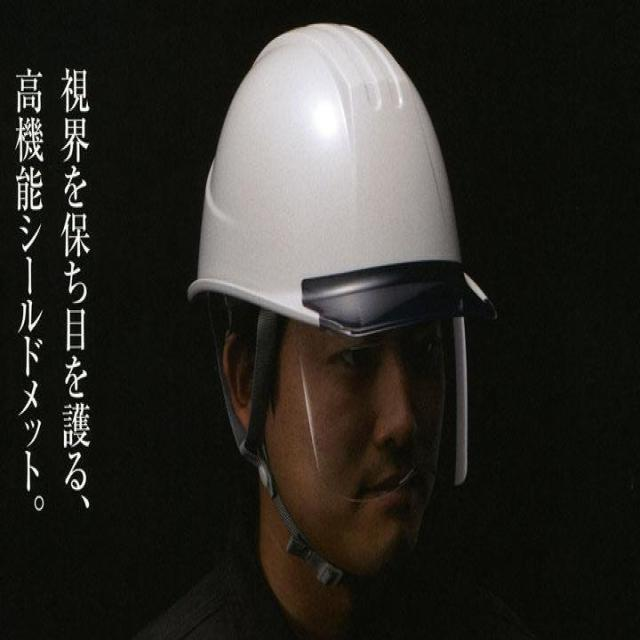helmet: (185, 18, 463, 340)
